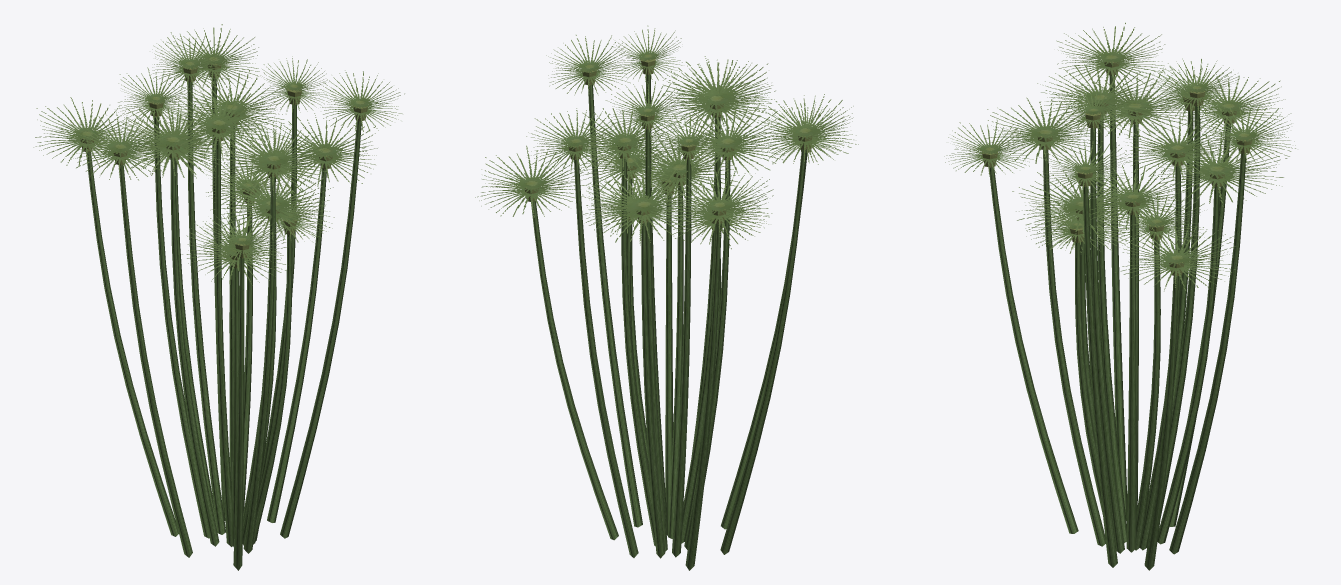
Rendered from nile_papyrus_clump.glb.
The picture shows the model from 3 angles, left to right: view 1: azimuth 30°, elevation 25°; view 2: azimuth 150°, elevation 25°; view 3: azimuth 270°, elevation 25°; orthographic projection.
Visible parts, largest first — view 1: nile_papyrus_clump; view 2: nile_papyrus_clump; view 3: nile_papyrus_clump.
Boxes of the visible parts, x1,y1,x2,y2 form: nile_papyrus_clump: [33, 24, 404, 570]; nile_papyrus_clump: [475, 25, 858, 570]; nile_papyrus_clump: [944, 22, 1295, 570].
Bounding box in the file's own units: 1.8 × 2.3 × 1.8.
2 materials, 2 textured.
